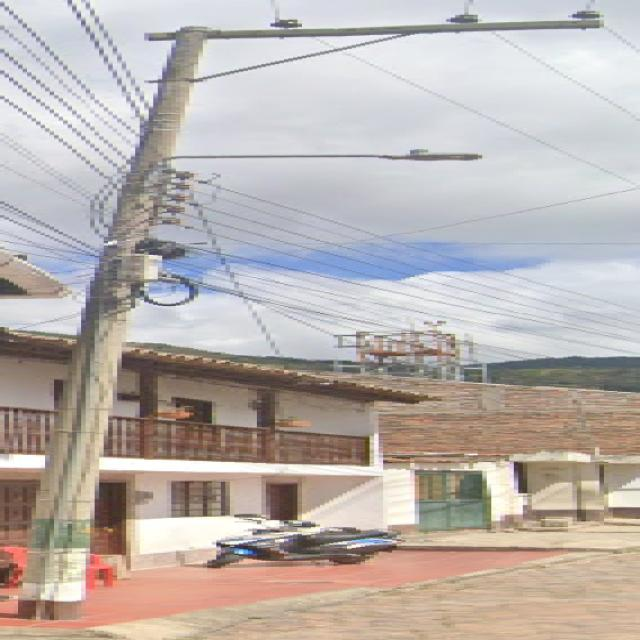Fachada: (81, 347, 419, 567), (343, 375, 635, 531), (0, 330, 72, 545)
Poste: (18, 12, 595, 619)
